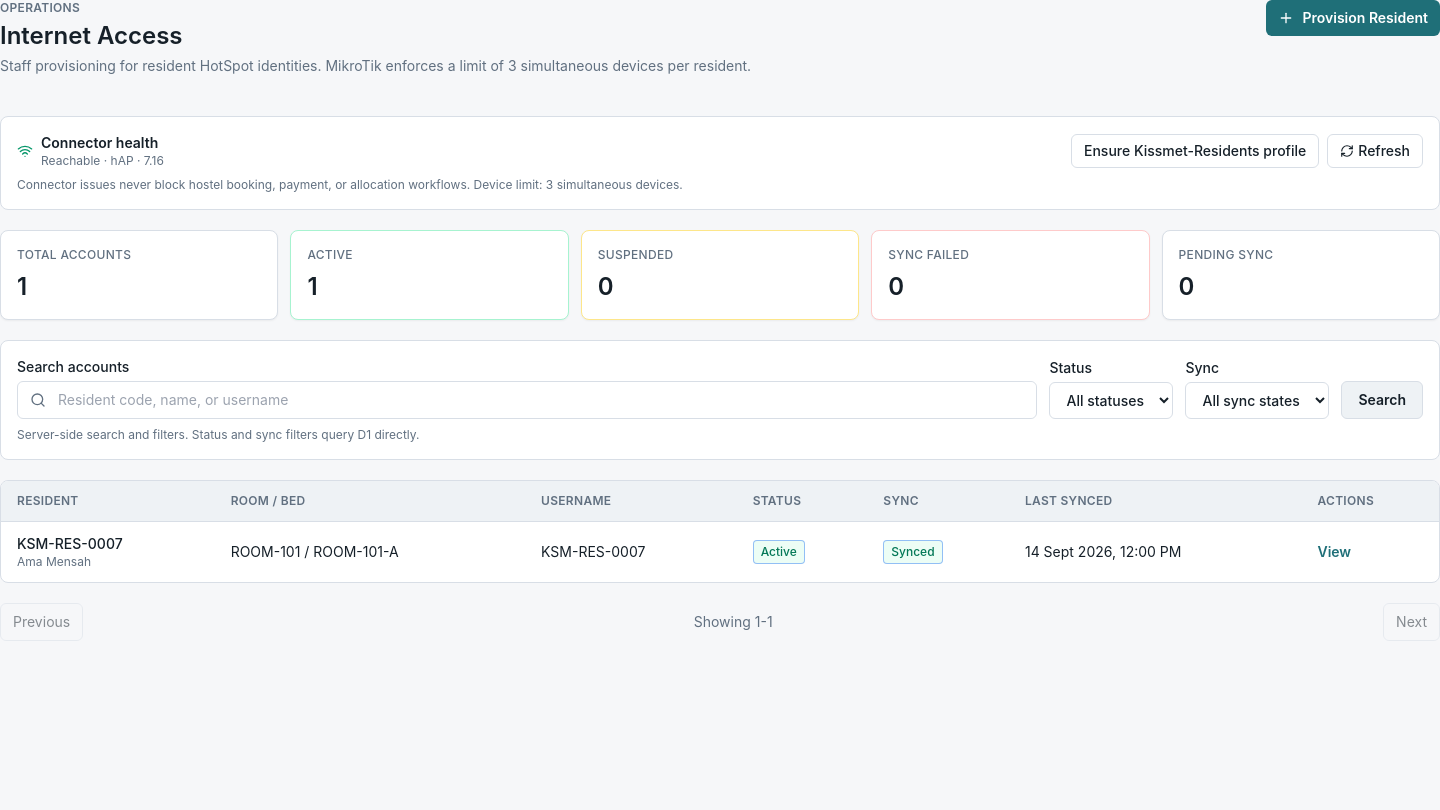
Scenario: InternetAccessPage › opens detail and can start suspend confirm
The width and height of the screenshot is (1440, 810).
Click the button "View".
click(1334, 552)  # box [1318,542,1351,562]
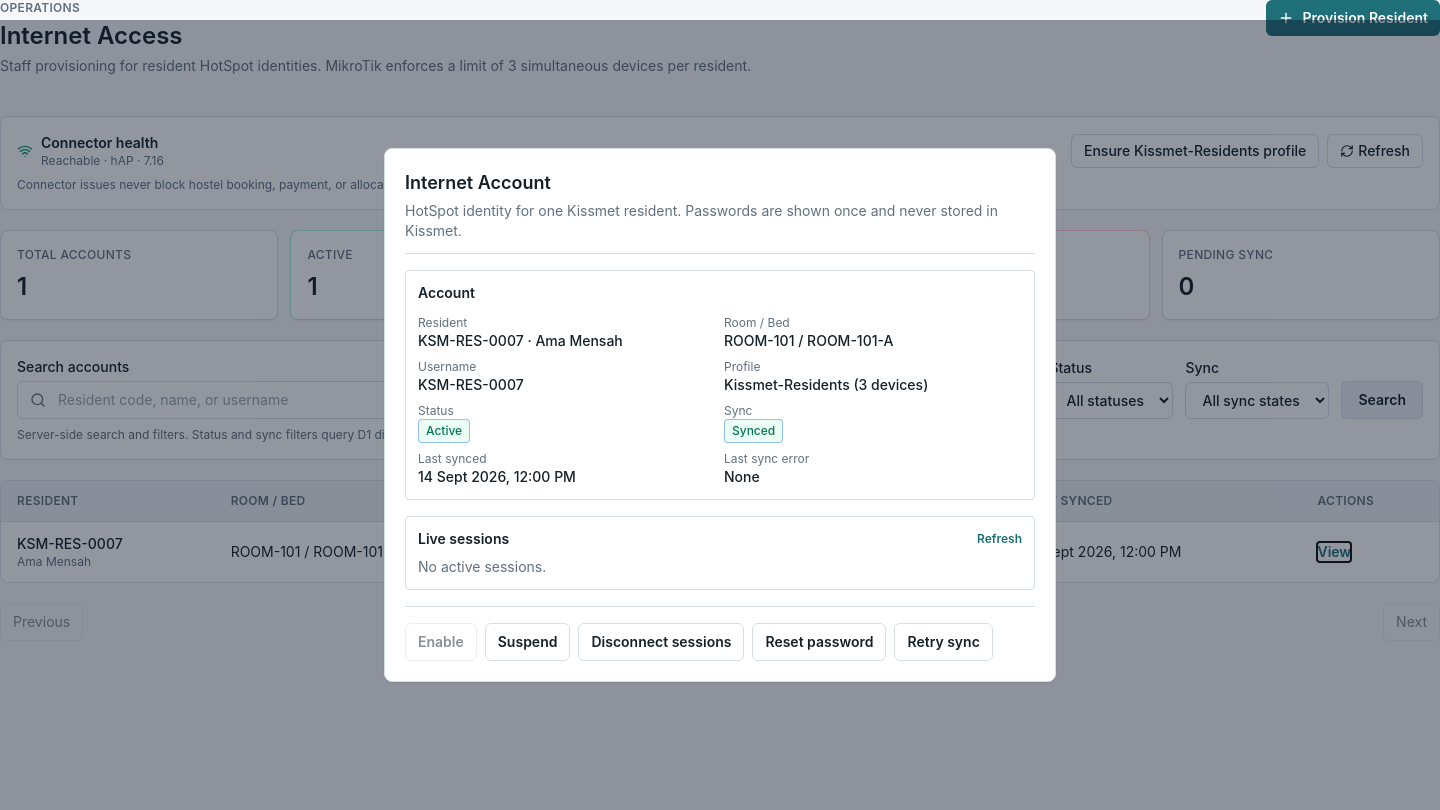
Expected: the heading "Internet Account" is shown, [405,172,551,193]
Click the button "Suspend".
click(528, 642)  # box [485,623,570,661]
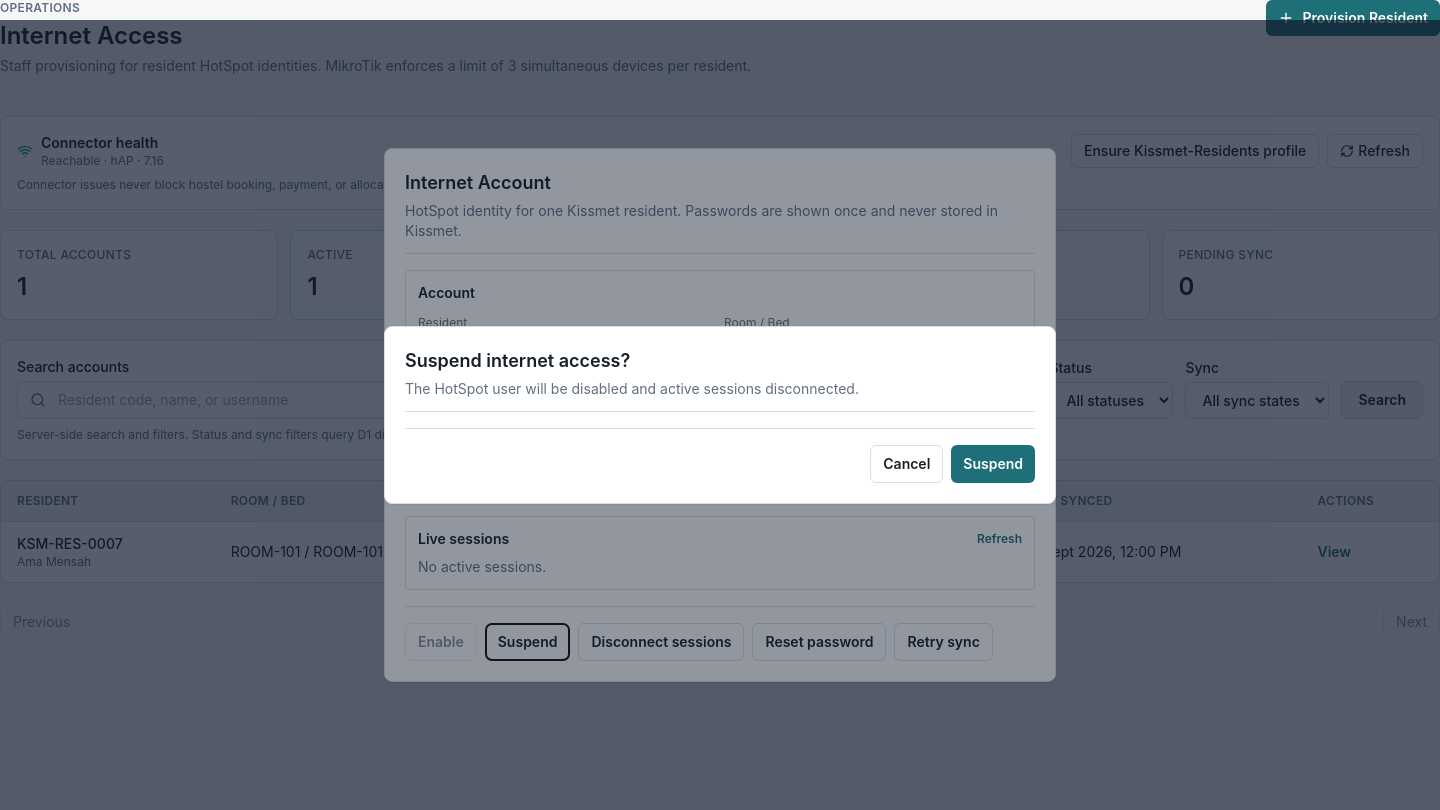
Expected: the heading "Suspend internet access?" is shown, [405,350,630,371]
